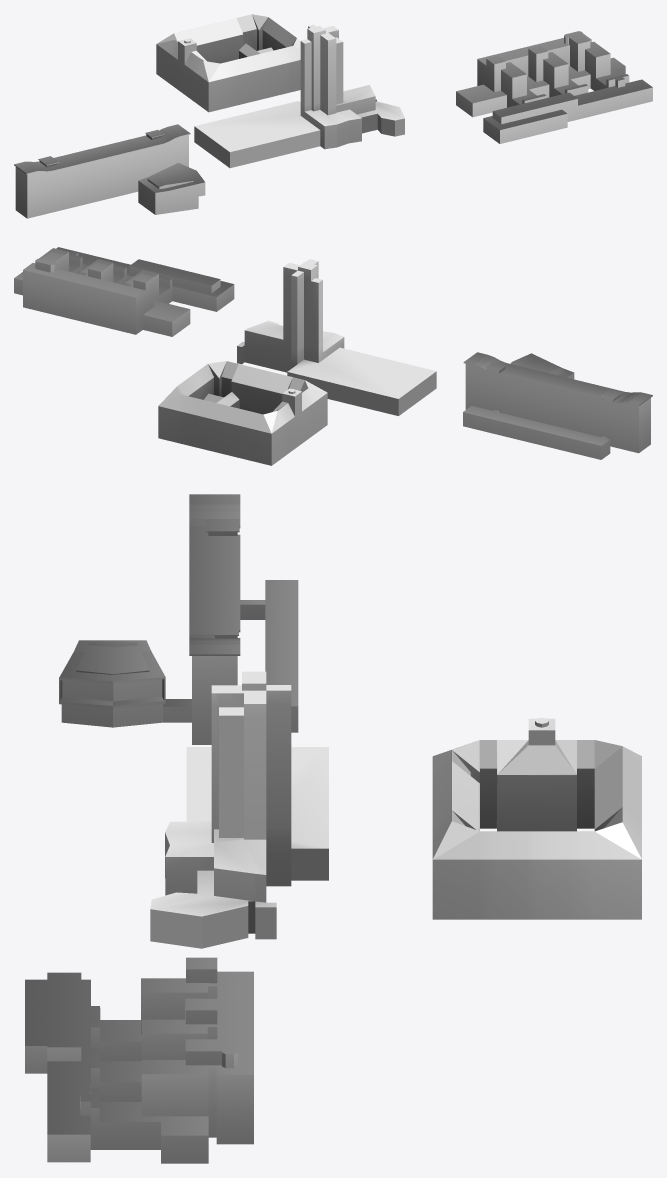
The model's file is allHouses1.1.dae.
The picture shows the model from 3 angles, top to bottom: view 1: azimuth 30°, elevation 25°; view 2: azimuth 150°, elevation 25°; view 3: azimuth 270°, elevation 25°; orthographic projection. The views are drawn at different scales.
Visible parts, largest first — view 1: Mesh_003; view 2: Mesh_003; view 3: Mesh_003.
Boxes of the visible parts, x1,y1,x2,y2 form: Mesh_003: (14, 14, 652, 218); Mesh_003: (14, 247, 652, 465); Mesh_003: (25, 494, 641, 1163).
Bounding box in the file's own units: 168 × 75.82 × 28.05.
Materials: 7 (7 with a texture image).
